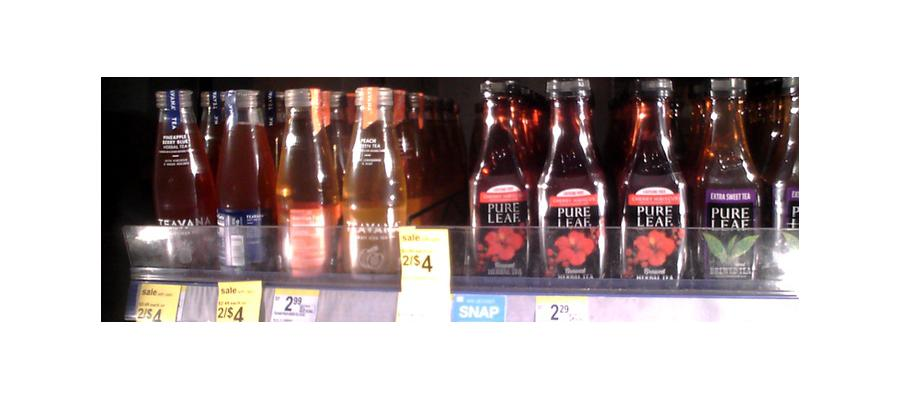bottle: (615, 82, 687, 285), (539, 77, 608, 281), (337, 83, 406, 287), (695, 77, 762, 281), (469, 83, 537, 279), (269, 85, 336, 280), (210, 84, 273, 277), (152, 82, 209, 273), (757, 78, 798, 278)
